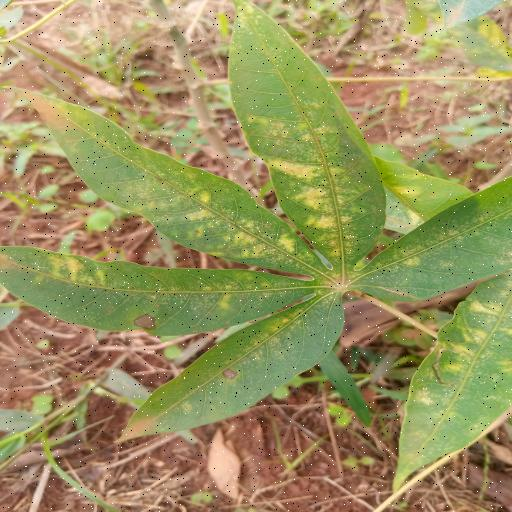Cassava_Mosaic: (0, 6, 512, 445)
